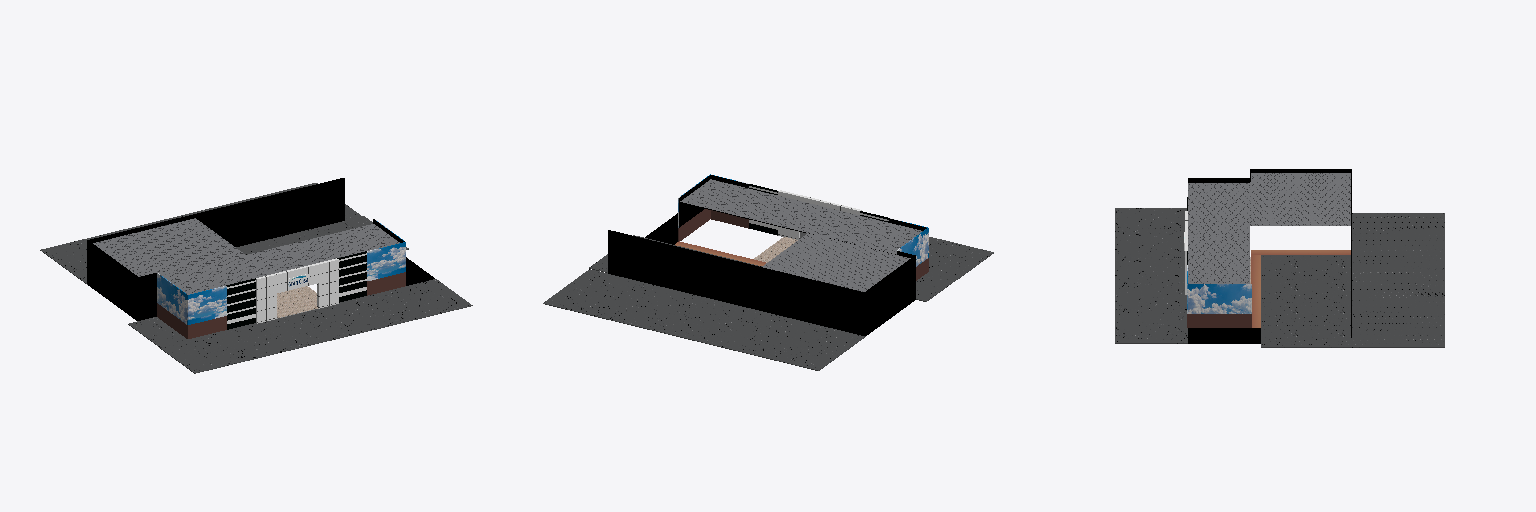
3 renders of one model, left to right at view 1: azimuth 30°, elevation 25°; view 2: azimuth 150°, elevation 25°; view 3: azimuth 270°, elevation 25°, orthographic.
Visible parts, largest first — view 1: group4 centrofachada1:polySurface9polySurface31, group4 centrofachada1:polySurface9polySurface37, group4 centrofachada1:polySurface9polySurface34, group4 centrofachada1:pasted__polySurface34pasted__polySurface9g, group4 centrofachada1:polySurface9polySurface42, group4 centrofachada1:polySurface9polySurface38, group4 centrofachada1:polySurface9polySurface32, group4 centrofachada1:polySurface9polySurface44, group4 centrofachada1:polySurface9polySurface51, group4 centrofachada1:polySurface9polySurface41, centrofachada1:polySurface9polySurface45 group4, group4 centrofachada1:polySurface39polySurface9 (+6 smaller); view 2: group4 centrofachada1:polySurface9polySurface32, group4 centrofachada1:polySurface9polySurface37, group4 centrofachada1:polySurface9polySurface34, group4 centrofachada1:pasted__polySurface34pasted__polySurface9g, group4 centrofachada1:polySurface9polySurface38, group4 centrofachada1:polySurface9polySurface31, group4 centrofachada1:pasted__polySurface31pasted__polySurface9g, group4 centrofachada1:polySurface9polySurface42, group4 centrofachada1:polySurface9polySurface49, group4 centrofachada1:pasted__pasted__polySurface31pasted__paste, group4 centrofachada1:polySurface9group284polySurface35; view 3: group4 centrofachada1:polySurface9polySurface32, group4 centrofachada1:polySurface9polySurface31, group4 centrofachada1:polySurface9polySurface51, group4 centrofachada1:polySurface9polySurface34, group4 centrofachada1:pasted__polySurface34pasted__polySurface9g, group4 centrofachada1:polySurface9group284polySurface35, group4 centrofachada1:pasted__pasted__polySurface31pasted__paste, group4 centrofachada1:polySurface9polySurface36group284, group4 centrofachada1:pasted__pasted__pasted__pasted__pasted__pC.
Part boxes in pixels (left/top/right/bottom): group4 centrofachada1:polySurface9polySurface31: left=159, top=279, right=472, bottom=373; group4 centrofachada1:polySurface9polySurface37: left=87, top=178, right=344, bottom=283; group4 centrofachada1:polySurface9polySurface34: left=162, top=224, right=399, bottom=294; group4 centrofachada1:pasted__polySurface34pasted__polySurface9g: left=93, top=218, right=244, bottom=276; group4 centrofachada1:polySurface9polySurface42: left=256, top=258, right=338, bottom=323; group4 centrofachada1:polySurface9polySurface38: left=88, top=240, right=137, bottom=320; group4 centrofachada1:polySurface9polySurface32: left=40, top=183, right=362, bottom=284; group4 centrofachada1:polySurface9polySurface44: left=226, top=278, right=255, bottom=329; group4 centrofachada1:polySurface9polySurface51: left=236, top=216, right=408, bottom=254; group4 centrofachada1:polySurface9polySurface41: left=337, top=251, right=366, bottom=302; centrofachada1:polySurface9polySurface45 group4: left=187, top=286, right=226, bottom=324; group4 centrofachada1:polySurface39polySurface9: left=367, top=242, right=405, bottom=280; group4 centrofachada1:polySurface9polySurface32: left=543, top=269, right=865, bottom=370; group4 centrofachada1:polySurface9polySurface37: left=608, top=230, right=864, bottom=335; group4 centrofachada1:polySurface9polySurface34: left=680, top=179, right=922, bottom=254; group4 centrofachada1:pasted__polySurface34pasted__polySurface9g: left=762, top=233, right=910, bottom=291; group4 centrofachada1:polySurface9polySurface38: left=865, top=256, right=915, bottom=335; group4 centrofachada1:polySurface9polySurface31: left=773, top=232, right=993, bottom=278; group4 centrofachada1:pasted__polySurface31pasted__polySurface9g: left=916, top=272, right=957, bottom=301; group4 centrofachada1:polySurface9polySurface42: left=778, top=190, right=861, bottom=239; group4 centrofachada1:polySurface9polySurface49: left=897, top=228, right=927, bottom=266; group4 centrofachada1:pasted__pasted__polySurface31pasted__paste: left=645, top=213, right=677, bottom=244; group4 centrofachada1:polySurface9group284polySurface35: left=678, top=174, right=710, bottom=227; group4 centrofachada1:polySurface9polySurface32: left=1351, top=213, right=1444, bottom=347; group4 centrofachada1:polySurface9polySurface31: left=1115, top=208, right=1187, bottom=343; group4 centrofachada1:polySurface9polySurface51: left=1261, top=255, right=1350, bottom=347; group4 centrofachada1:polySurface9polySurface34: left=1188, top=183, right=1249, bottom=283; group4 centrofachada1:pasted__polySurface34pasted__polySurface9g: left=1250, top=173, right=1350, bottom=225; group4 centrofachada1:polySurface9group284polySurface35: left=1188, top=284, right=1251, bottom=313; group4 centrofachada1:pasted__pasted__polySurface31pasted__paste: left=1188, top=328, right=1260, bottom=343; group4 centrofachada1:polySurface9polySurface36group284: left=1188, top=314, right=1251, bottom=327; group4 centrofachada1:pasted__pasted__pasted__pasted__pasted__pC: left=1251, top=255, right=1260, bottom=327.
Size of the model in its own units: 98.02 by 14.7 by 97.43.
34 materials, 10 textured.